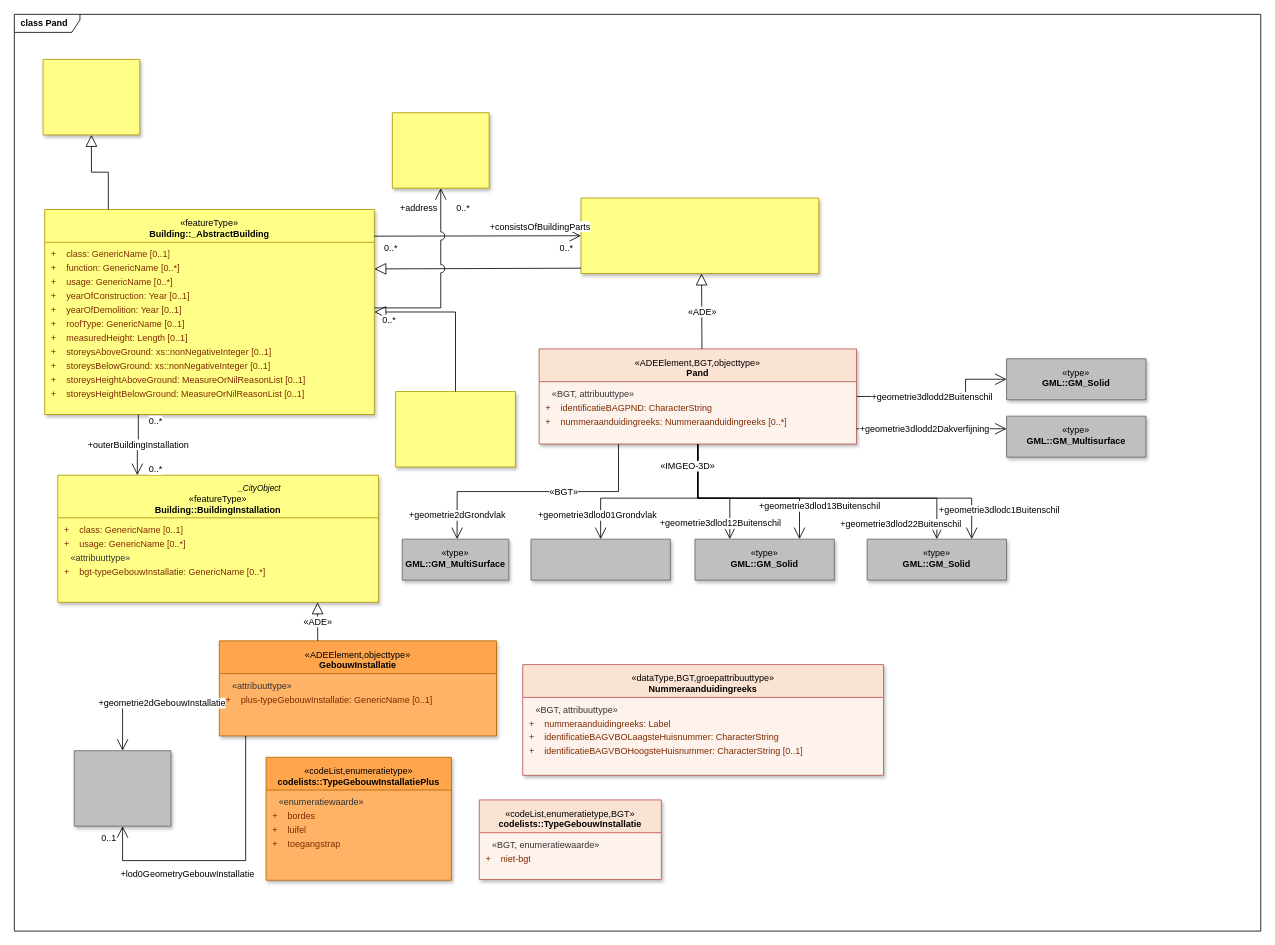
This 1275x945 diagram has some shape labels left out. The shapes that lost their labels are listed below. From the top down, each one's centre as x and y in pixels, then its label:
At point (92, 98): "_CityObject «featureType» CityGML Core::_Site".
At point (441, 151): "_Feature «featureType» CityGML Core:: Address".
At point (700, 236): "«featureType» Building::BuildingPart".
At point (456, 430): "«featureType» Building::Building".
At point (601, 560): "«type» GML::GM_TriangulatedSurface".
At point (123, 789): "«type» GML::GM_Surface".
